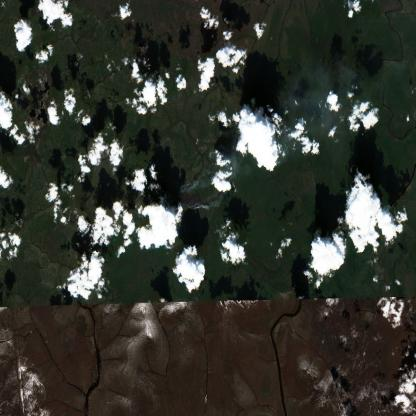fire: (174, 177, 207, 213)
